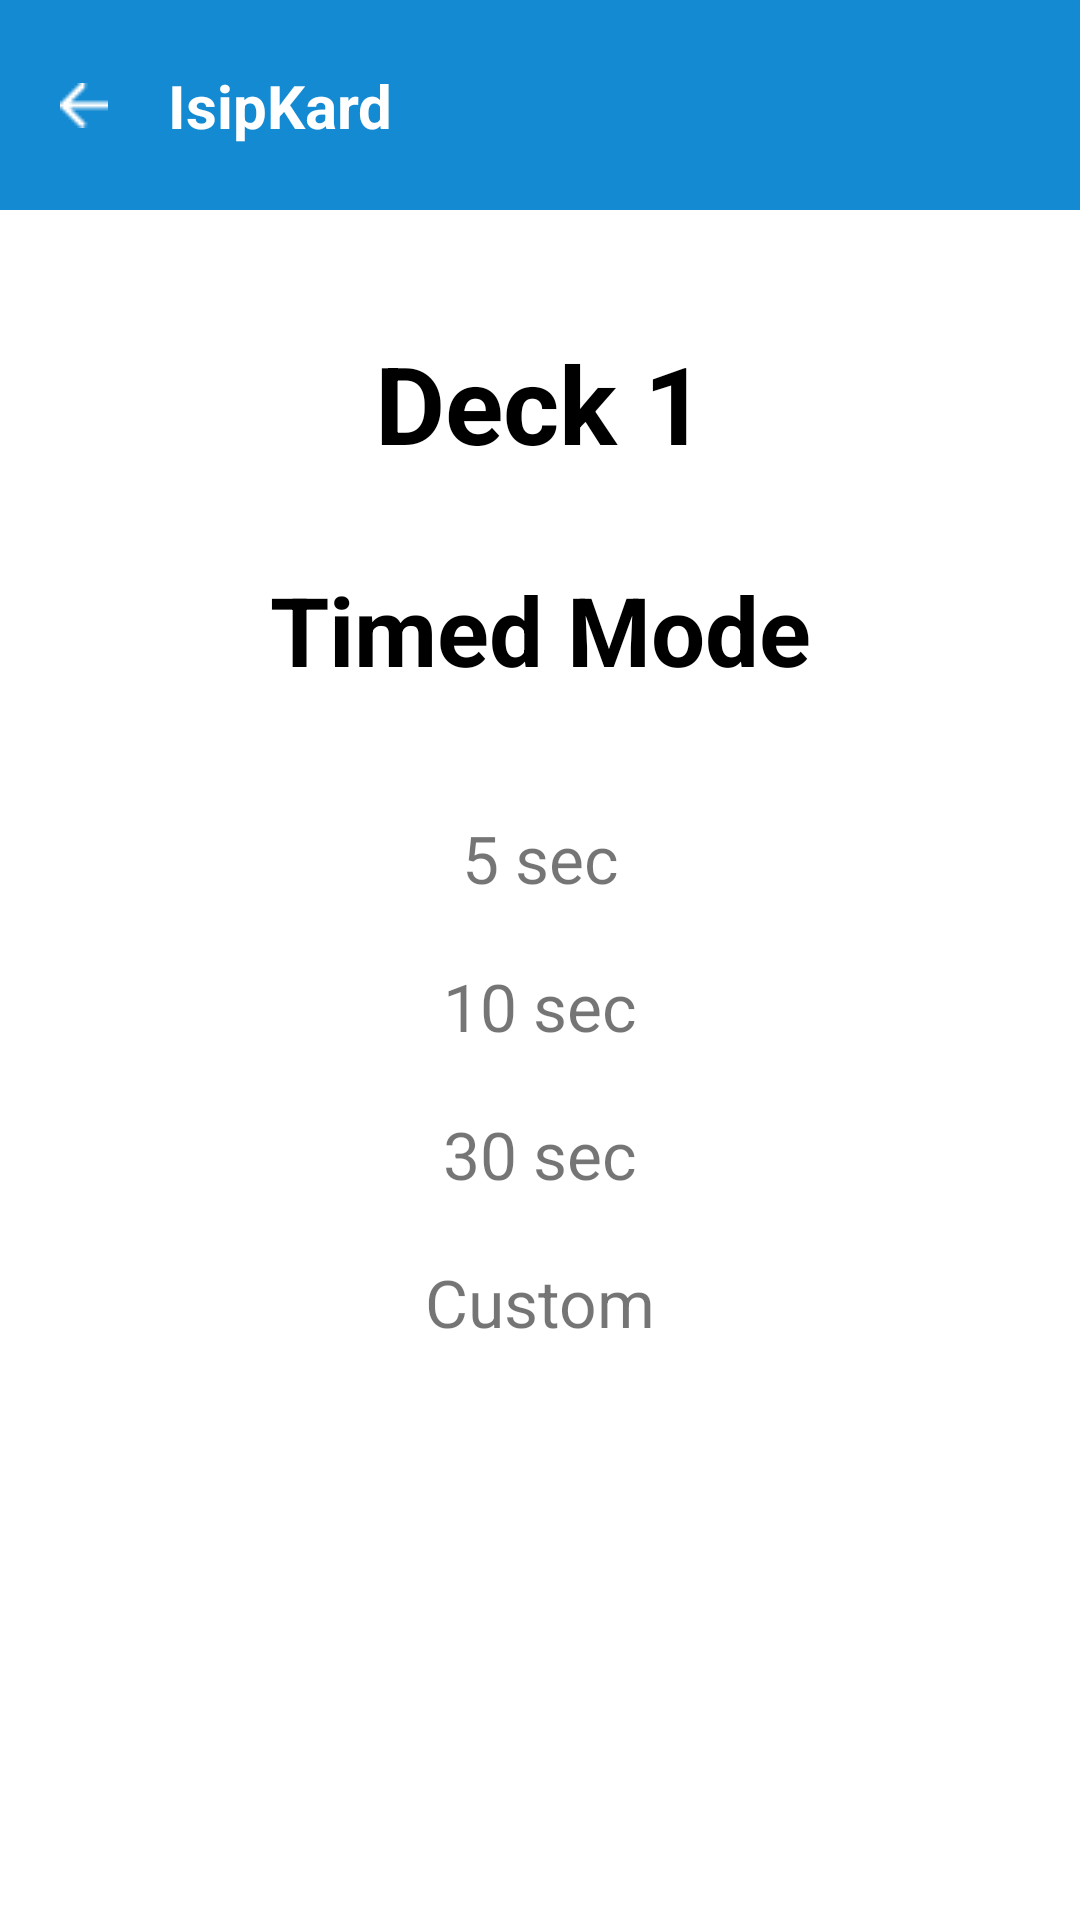

Where to tap for icons on this 1080px×1920px app screen, as point (x, y):
back: point (84, 105)
